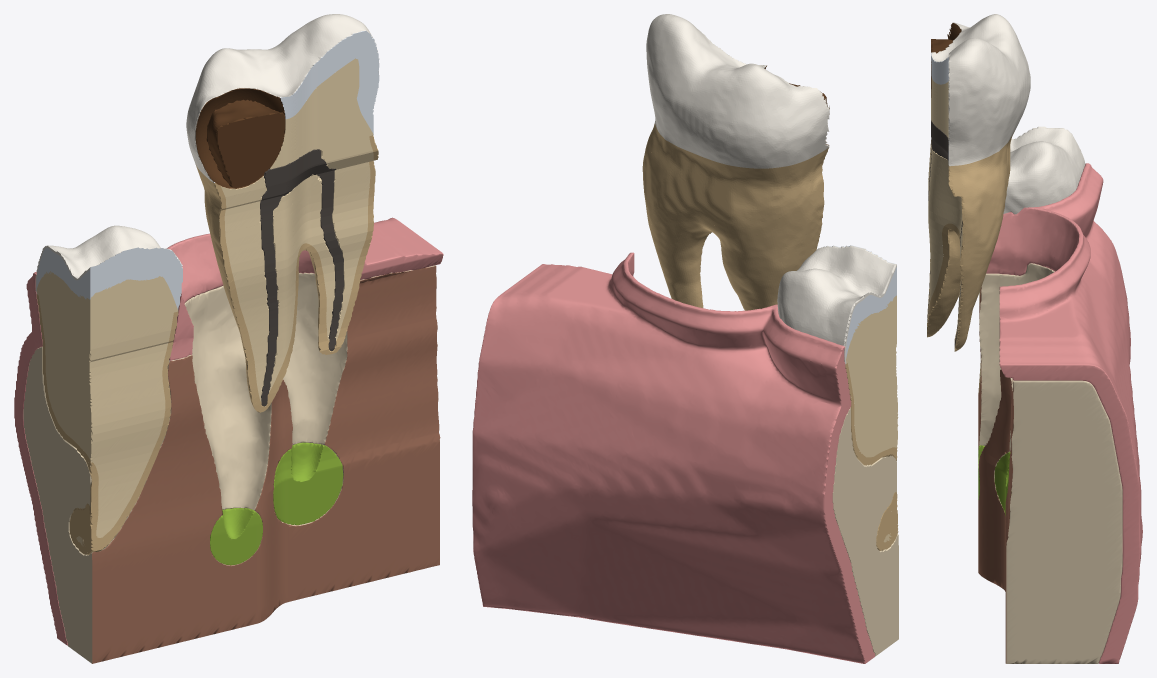
File: ext-during.glb
3 renders of one model, left to right at view 1: azimuth 30°, elevation 25°; view 2: azimuth 150°, elevation 25°; view 3: azimuth 270°, elevation 25°, orthographic. The views are drawn at different scales.
Parts seen in each view (by area): view 1: bone_1, bone, teeth teeth_2, first molar teeth_8, gum, first molar teeth_5, decay, abscess, pulp, first molar teeth_7, teeth teeth_3, first molar teeth_10 (+5 smaller); view 2: gum, first molar teeth_9, first molar teeth_5, bone, teeth teeth_4, teeth teeth_2, teeth teeth_3, teeth teeth_1, teeth teeth; view 3: bone, gum, first molar teeth_5, first molar teeth_9, bone_1, teeth teeth_4, first molar teeth_8, first molar teeth_7, abscess, pulp, first molar teeth_10, decay.
Boxes of the visible parts, <box> form: bone_1: <box>92,266,440,663</box>; bone: <box>23,265,439,663</box>; teeth teeth_2: <box>37,271,178,546</box>; first molar teeth_8: <box>221,58,373,401</box>; gum: <box>14,217,442,645</box>; first molar teeth_5: <box>186,14,379,182</box>; decay: <box>195,88,285,188</box>; abscess: <box>210,442,343,565</box>; pulp: <box>260,149,344,406</box>; first molar teeth_7: <box>214,135,378,412</box>; teeth teeth_3: <box>36,247,182,309</box>; first molar teeth_10: <box>280,30,379,133</box>; gum: <box>472,252,874,663</box>; first molar teeth_9: <box>642,123,829,310</box>; first molar teeth_5: <box>646,14,829,168</box>; bone: <box>832,407,898,656</box>; teeth teeth_4: <box>777,245,896,364</box>; teeth teeth_2: <box>846,295,898,542</box>; teeth teeth_3: <box>825,245,896,358</box>; teeth teeth_1: <box>846,363,898,548</box>; teeth teeth: <box>845,364,898,550</box>; bone: <box>979,263,1122,663</box>; gum: <box>986,163,1142,663</box>; first molar teeth_5: <box>931,14,1030,166</box>; first molar teeth_9: <box>927,131,1014,351</box>; bone_1: <box>978,287,1013,663</box>; teeth teeth_4: <box>1003,126,1085,214</box>; first molar teeth_8: <box>927,78,962,339</box>; first molar teeth_7: <box>927,140,962,351</box>; abscess: <box>978,445,1010,515</box>; pulp: <box>927,120,962,345</box>; first molar teeth_10: <box>931,52,948,164</box>; decay: <box>931,23,961,97</box>.
Size of the model in its own units: 23.45 by 36.65 by 12.67.
